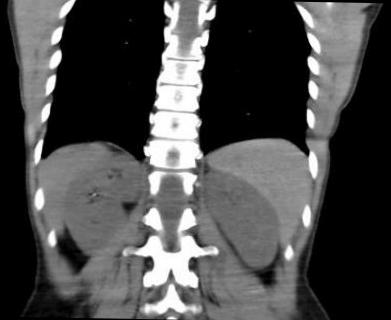Tas_Var: (88, 191, 97, 199)
